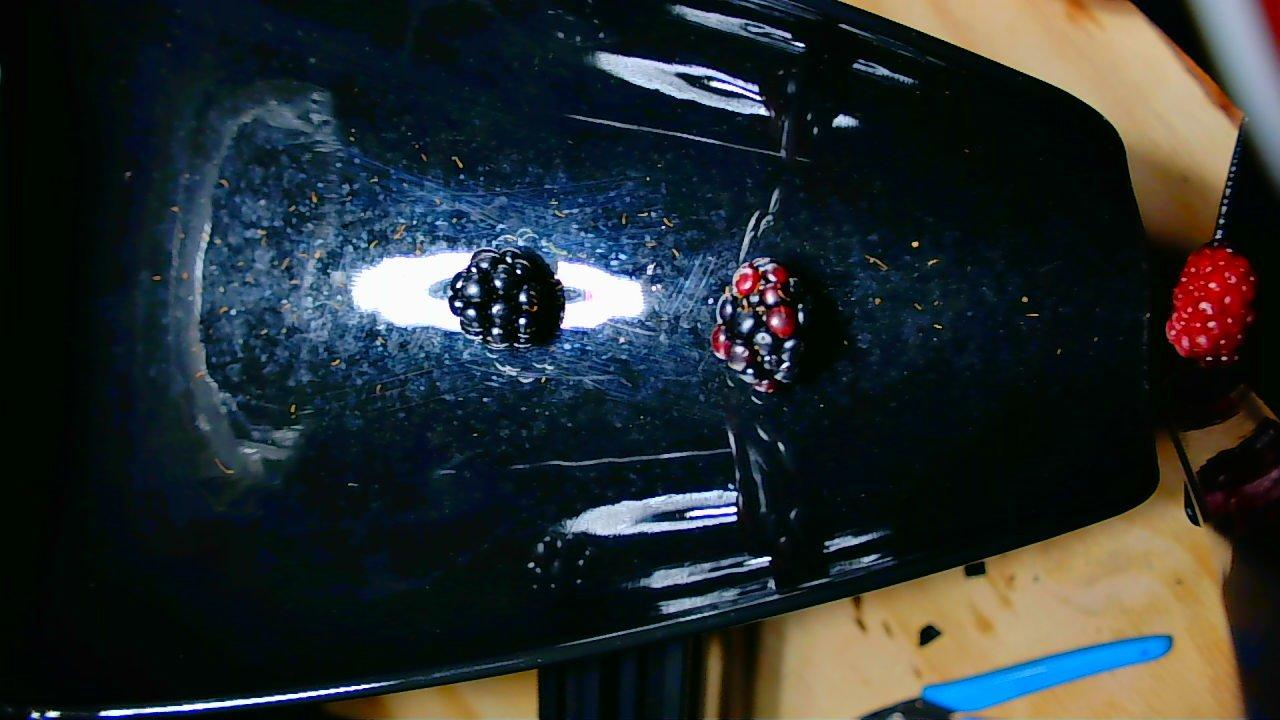berry: (711, 257, 808, 391), (448, 247, 562, 347), (1165, 243, 1257, 364)
